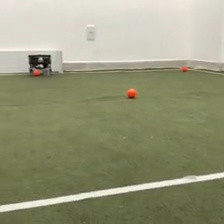ball: (126, 86, 137, 99), (180, 64, 189, 72), (32, 68, 40, 76)
goal: (1, 49, 65, 74)
robot: (26, 53, 53, 78)
